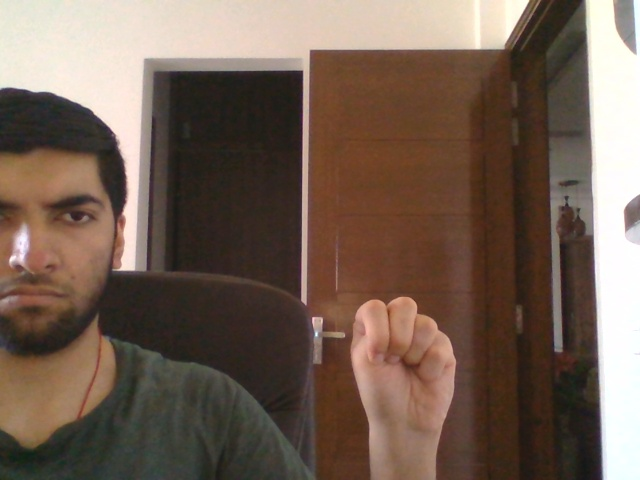LetterM: (348, 296, 457, 437)
